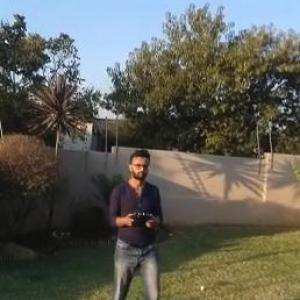follow: (104, 144, 168, 299)
